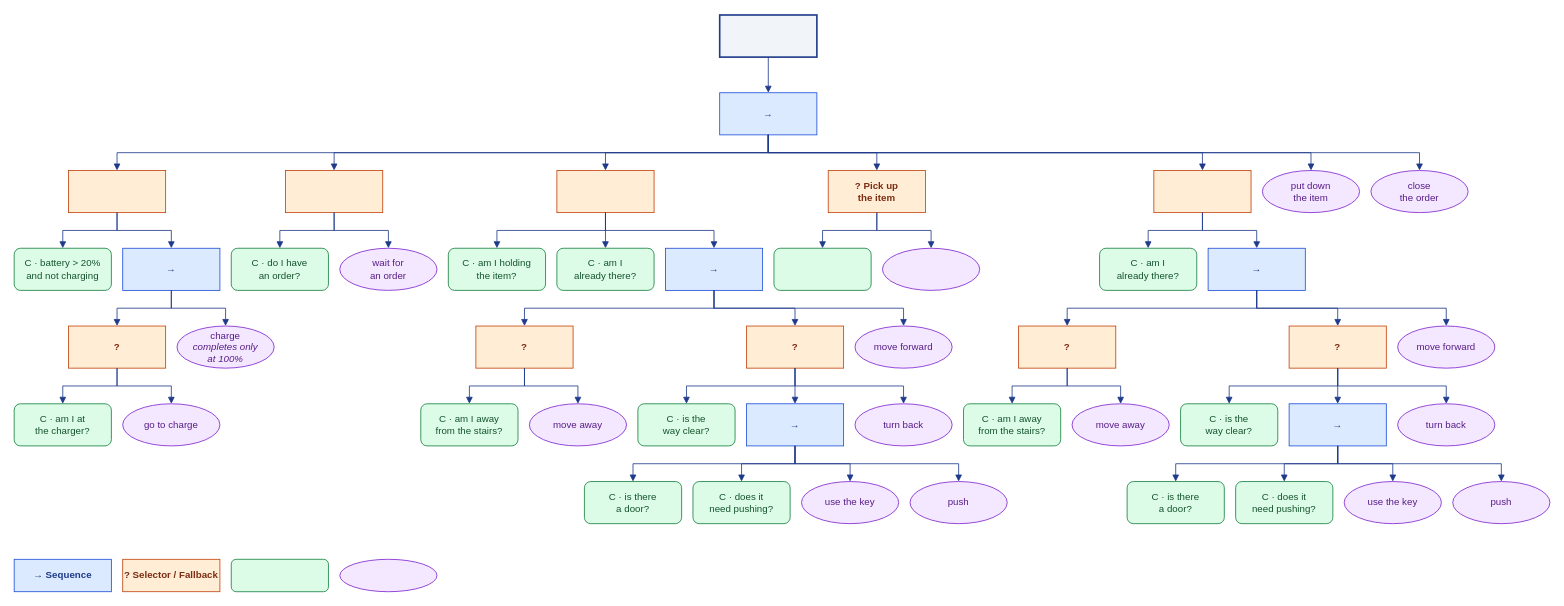
Image size: 1564x606. Some labels were removed from this diagram. Here are the shapes that lost their labels. From the top down, the centre of each, then its label:
the point at 767,36: ROOT ∅
the point at 117,191: ? Battery
the point at 334,191: ? Order
the point at 605,191: ? Reach the pick-up point
the point at 1202,191: ? Reach the delivery point
the point at 822,268: C · am I already holding the item?
the point at 931,268: pick up
the point at 279,575: C · condition
the point at 388,575: action
